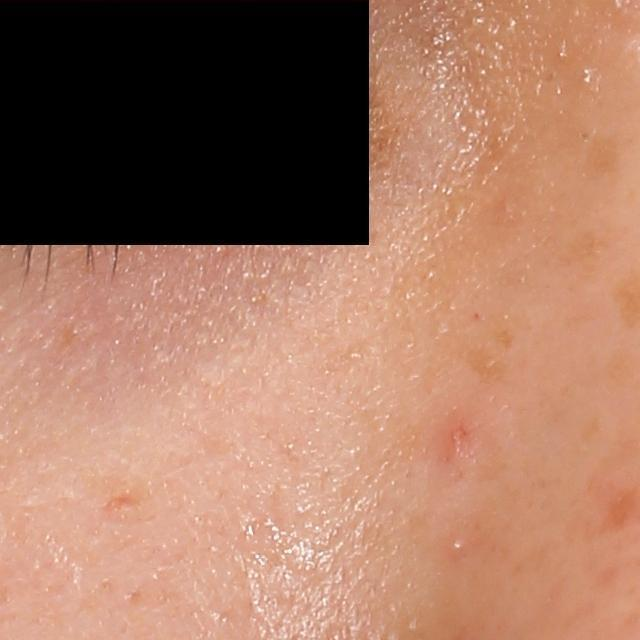comedo: (450, 537, 465, 550)
melasma: (457, 337, 510, 397), (557, 221, 619, 271), (589, 127, 628, 183)
papule: (448, 422, 471, 451)
